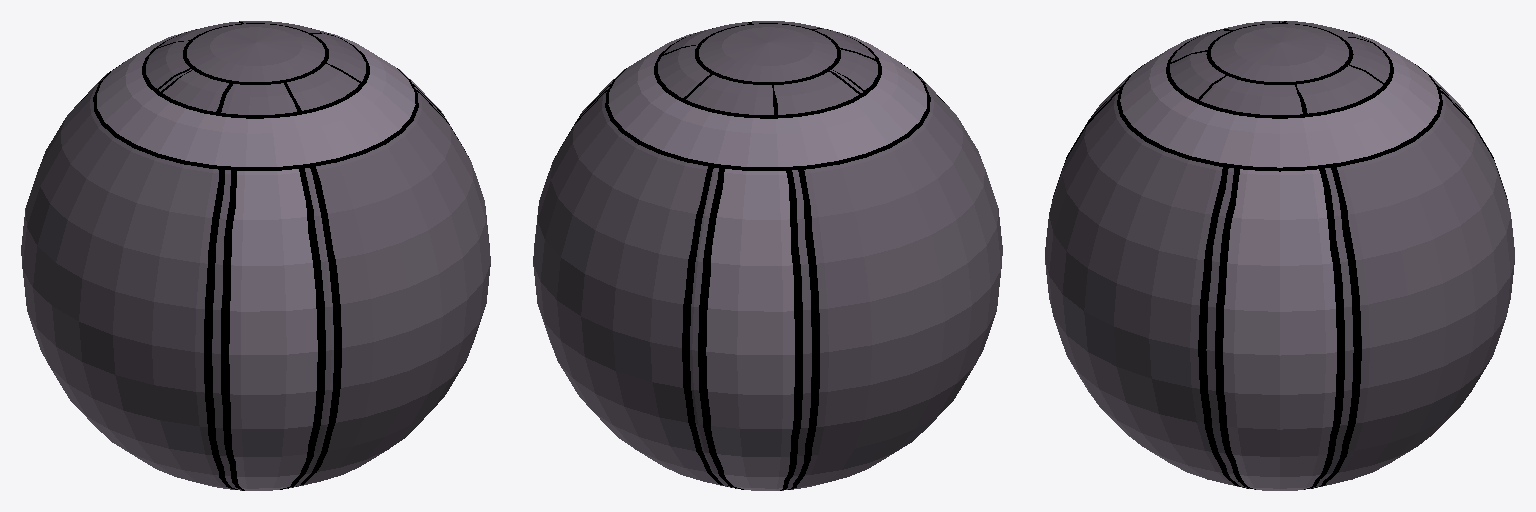
3 views of the same model, side by side, from view 1: azimuth 30°, elevation 25°; view 2: azimuth 150°, elevation 25°; view 3: azimuth 270°, elevation 25° (orthographic).
Visible parts, largest first — view 1: 球; view 2: 球; view 3: 球.
Part boxes in pixels (bbox=[...]): 球: bbox=[21, 21, 490, 490]; 球: bbox=[533, 21, 1002, 490]; 球: bbox=[1045, 21, 1514, 490].
Bounding box in the file's own units: 10.18 × 10.18 × 10.18.
1 materials, 1 textured.